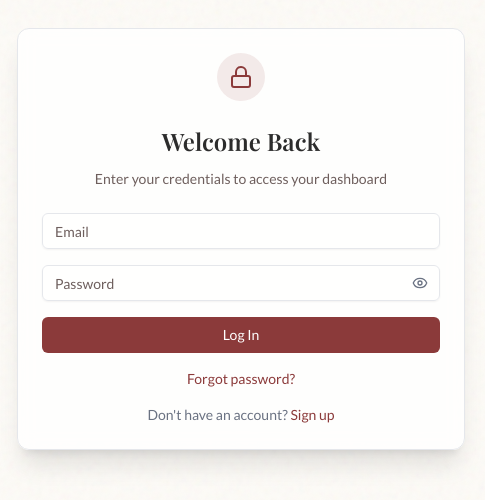
Test: LoginPage › Form Validation › should show error when password is empty
In the field with placeholder "Email": (241, 231) [42,213,440,249], type "test@example.com"
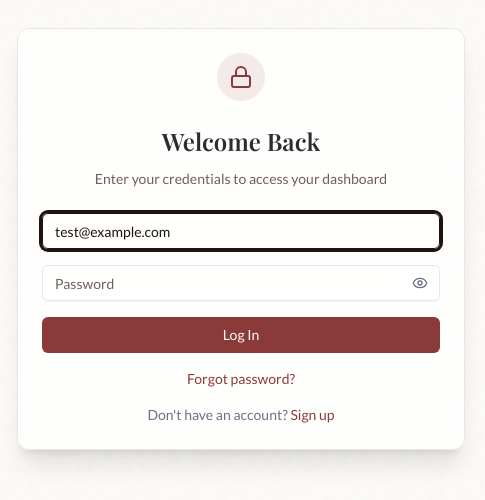
Click the button "Log In": (241, 335) [42,317,440,353]
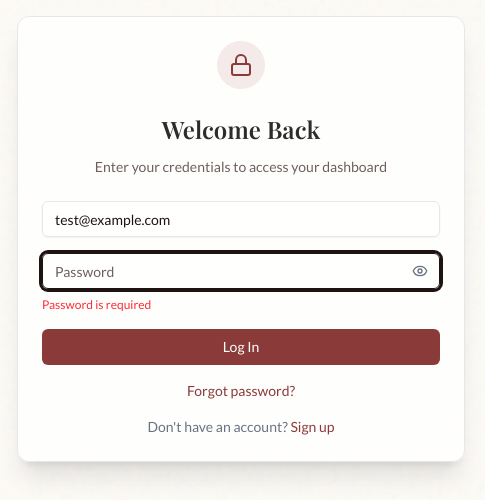
Expected: the text "Password is required" is shown, [42,297,151,312]
